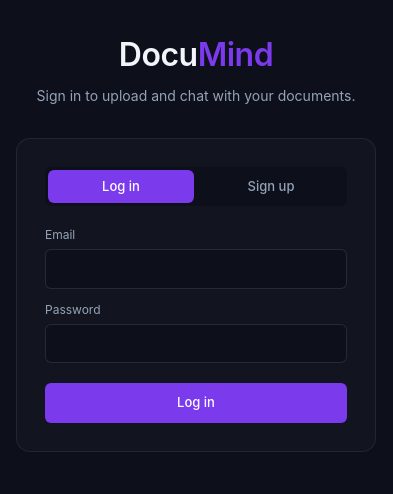
Test: signup no longer logs the user in › switches to the login tab and prompts the user to log in
Click the text "Sign up" at [271, 186], box [248,178,294,194]
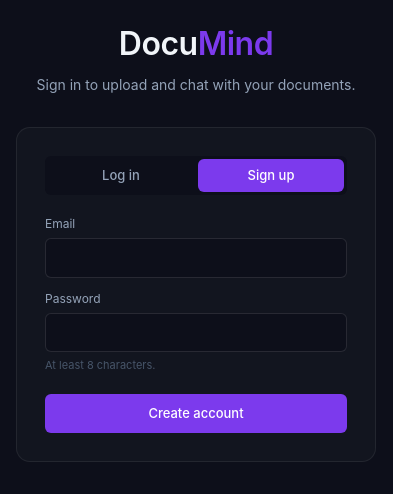
Type "new@example.com" into the field labelled "Email" at [196, 258], box [45,238,347,278]
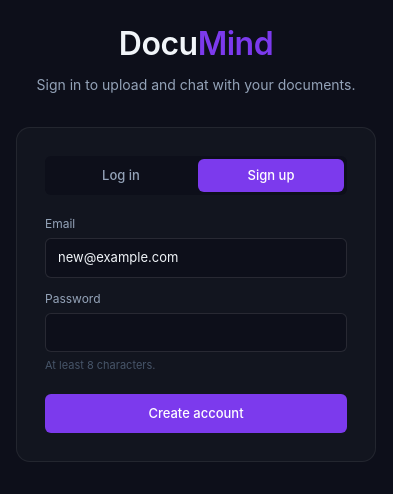
Type "a-real-password-1" into the password field labelled "Password" at [196, 333], box [45,313,347,352]
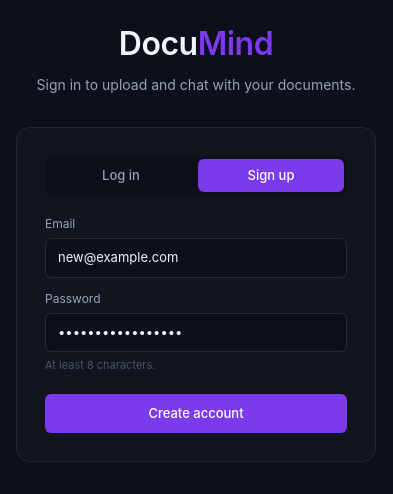
Click the button "Create account" at [196, 414], box [45,394,347,433]
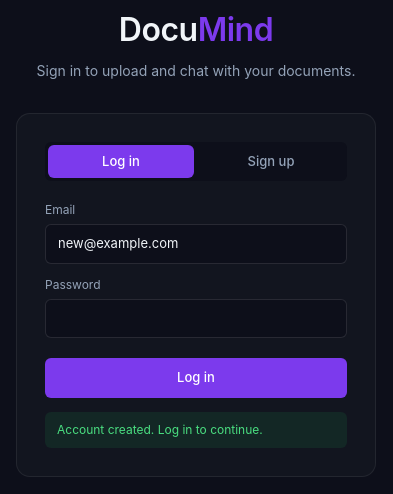
Expected: the text "Account created. Log in to continue." is shown, [45,412,347,448]
Expected: the button "Log in" is shown, [45,358,347,398]
